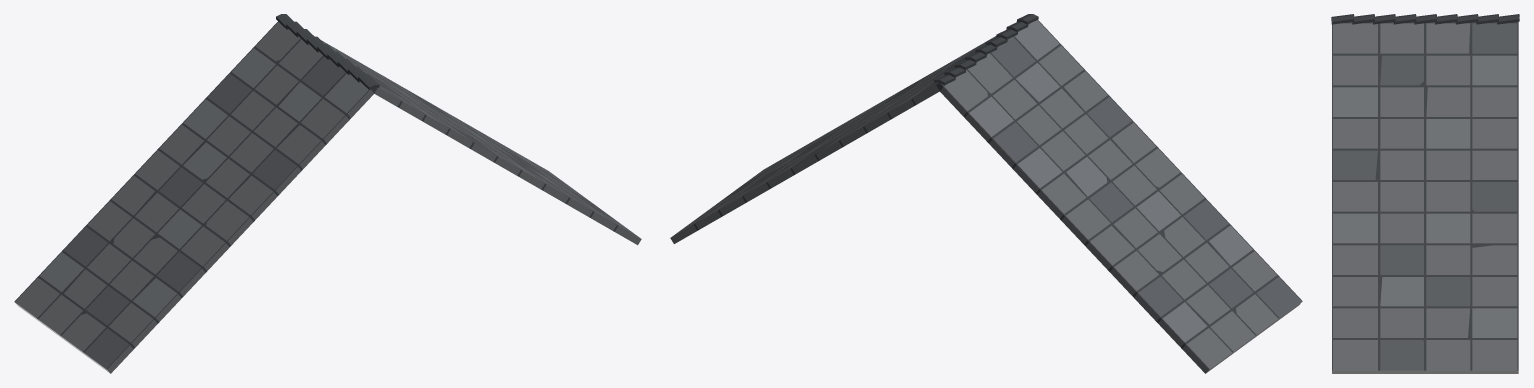
File: Roof2_C8_01.fbx
3 views of the same model, side by side, from view 1: azimuth 30°, elevation 25°; view 2: azimuth 150°, elevation 25°; view 3: azimuth 270°, elevation 25° (orthographic).
Visible parts, largest first — view 1: Roof2_C8_01; view 2: Roof2_C8_01; view 3: Roof2_C8_01.
Part boxes in pixels (x1,y1,x2,y2): Roof2_C8_01: [14, 14, 641, 373]; Roof2_C8_01: [670, 14, 1302, 373]; Roof2_C8_01: [1331, 14, 1519, 373].
Bounding box in the file's own units: 833 × 339 × 252.
